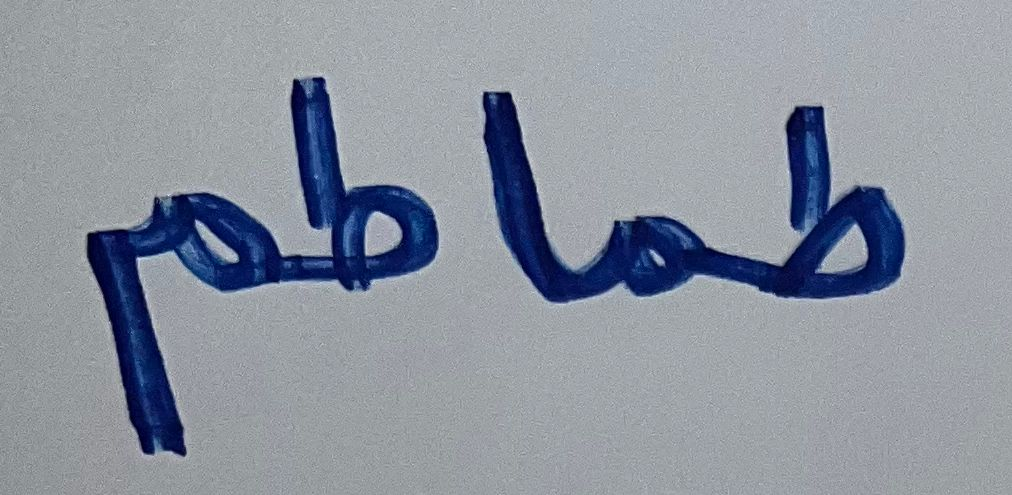alef: (468, 66, 577, 329)
meem: (56, 173, 284, 462)
tah: (737, 75, 922, 321), (287, 46, 451, 315)
teh_marbota: (586, 166, 719, 337)
